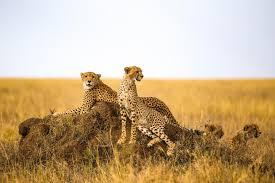Non_Gorille: (60, 53, 198, 170)
